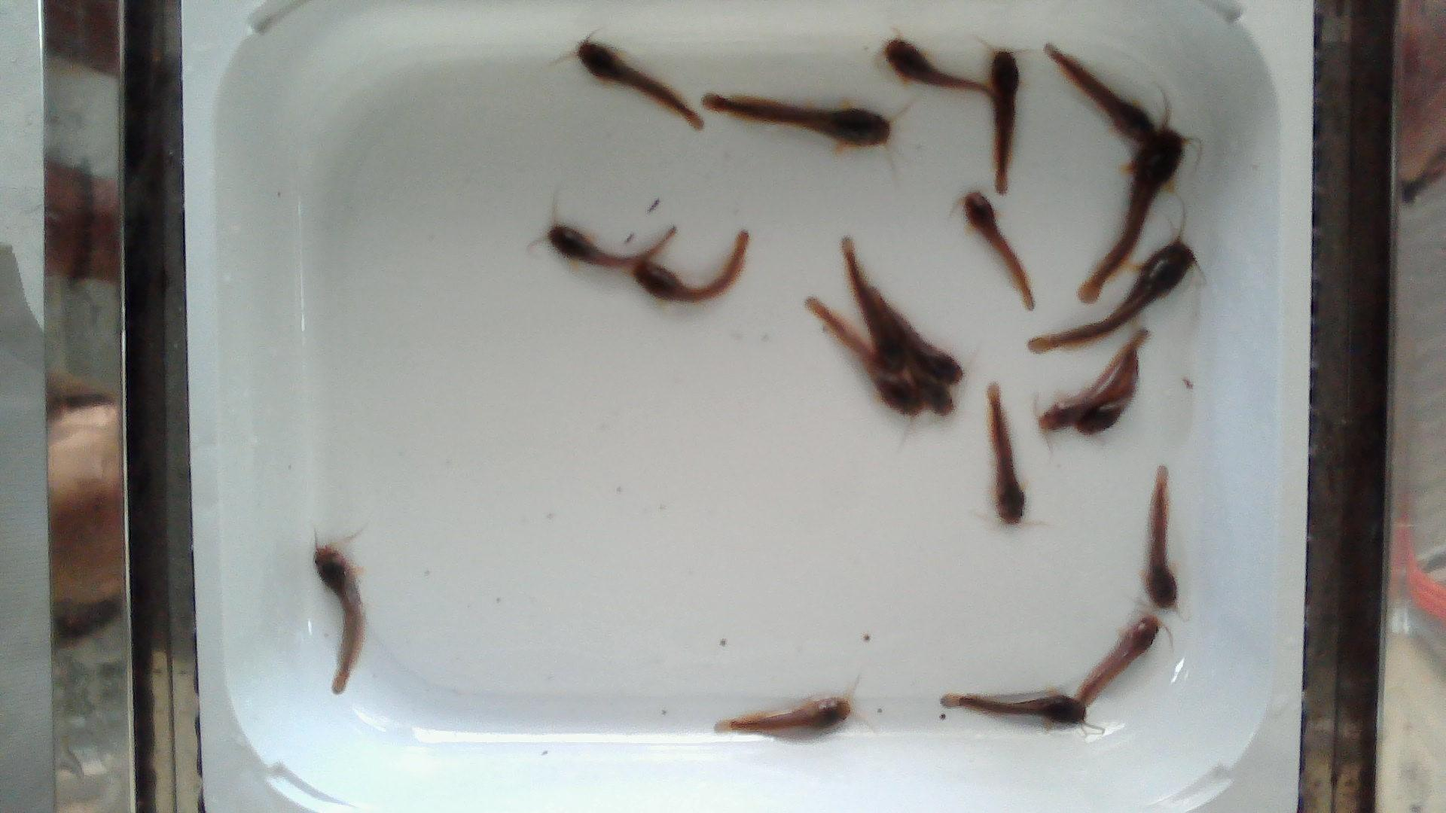lele: (1078, 126, 1183, 307), (1030, 239, 1195, 352), (807, 295, 925, 417), (1041, 42, 1157, 144), (576, 39, 703, 129), (1039, 329, 1147, 432), (703, 96, 889, 145), (842, 236, 905, 375), (629, 233, 749, 303), (874, 290, 963, 384), (963, 192, 1034, 309), (1075, 617, 1162, 710), (314, 544, 364, 693), (892, 318, 958, 413), (545, 224, 677, 268), (1075, 349, 1138, 435), (883, 38, 986, 90), (938, 693, 1088, 728), (988, 385, 1025, 525), (715, 696, 851, 734), (985, 51, 1019, 193), (1146, 466, 1176, 609)
